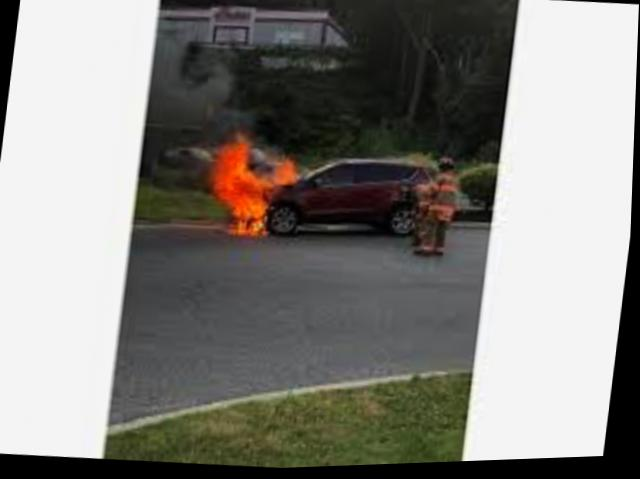fire: (194, 126, 314, 247)
